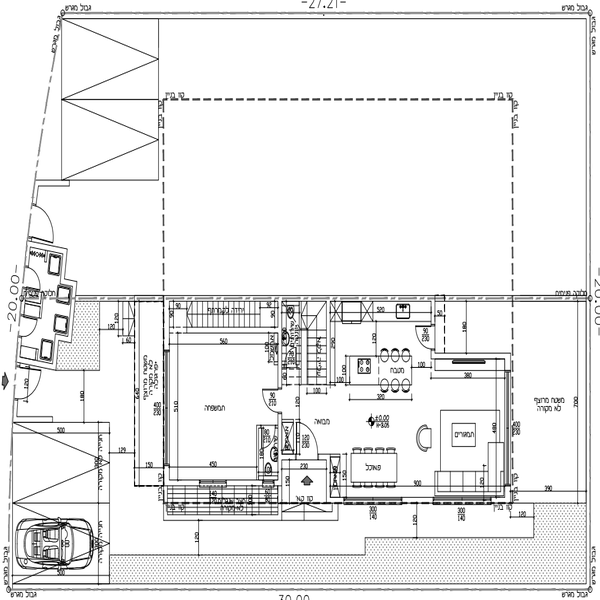door: (290, 416, 324, 456), (411, 325, 447, 351), (260, 383, 287, 416)
room: (328, 355, 512, 494), (163, 296, 284, 489)
